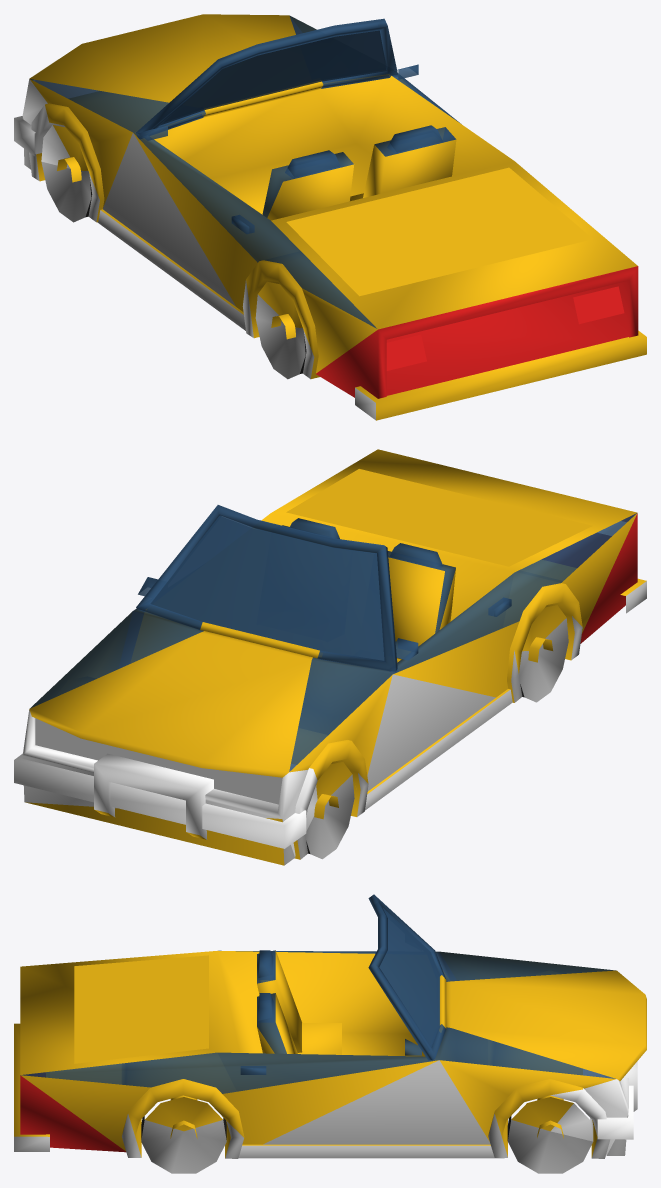
File: bot_car2.obj
The picture shows the model from 3 angles, top to bottom: view 1: azimuth 30°, elevation 25°; view 2: azimuth 150°, elevation 25°; view 3: azimuth 270°, elevation 25°; orthographic projection. The views are drawn at different scales.
Bounding box in the file's own units: 2.03 × 1.59 × 4.8.
